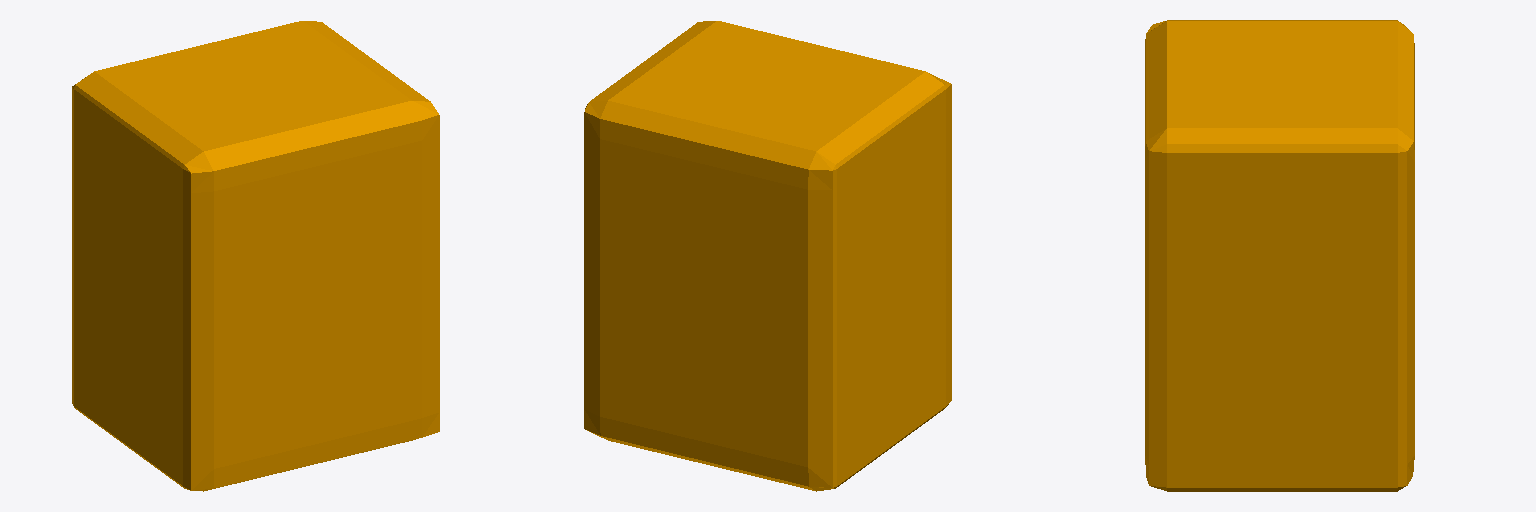
The robot description file, URDF, robot "cylinder_box_17":
<?xml version="1.0" encoding="utf-8"?>  <robot name="cylinder_box_17">   <link name="cylinder_box_17">     <visual>       <geometry>         <mesh filename="../meshes/box/box_17.stl" scale="1 1 1"/>       </geometry>     </visual>     <collision>       <geometry>         <mesh filename="../meshes/box/box_17.stl" scale="1 1 1"/>       </geometry>     </collision>     <inertial>        <origin         xyz="0 0 0"         rpy="0 0 0" />       <mass value="0.3275702270073566"/>       <origin rpy="0 0 0" xyz="0 0 0"/>       <inertia ixx="0.00028874804117780576" ixy="-1.0748683882636319e-08" ixz="-1.3937524285585757e-08" iyy="0.0003154143848461779" iyz="-5.539884452143891e-08" izz="0.00020964043863965943"/>     </inertial>   </link>  </robot>

--- Facts derived from the render (not from the file) ---
Views: 3 orthographic renders of the robot side by side, from view 1: azimuth 30°, elevation 25°; view 2: azimuth 150°, elevation 25°; view 3: azimuth 270°, elevation 25°.
Model cylinder_box_17 with 1 links and 0 joints (none), rooted at cylinder_box_17, posed every joint at zero.
Visible links, largest first — view 1: cylinder_box_17; view 2: cylinder_box_17; view 3: cylinder_box_17.
Link boxes in pixels (<box>): cylinder_box_17: <box>72,21,439,491</box>; cylinder_box_17: <box>584,21,951,491</box>; cylinder_box_17: <box>1145,20,1414,491</box>.
Bounding box of the posed robot: 0.0663 × 0.0585 × 0.0857 m (x, y, z).
1 mesh visuals loaded from 1 distinct referenced files (1 binary STL).